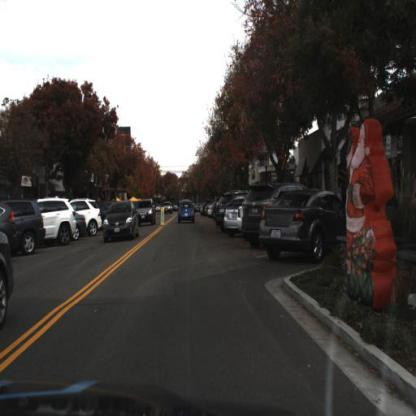car: (259, 188, 345, 261), (5, 200, 46, 255), (31, 198, 77, 247), (102, 199, 142, 246), (67, 198, 103, 238), (225, 195, 248, 239), (224, 196, 245, 243), (134, 197, 157, 229), (178, 199, 199, 226)
pedestrian: (242, 183, 309, 247)
